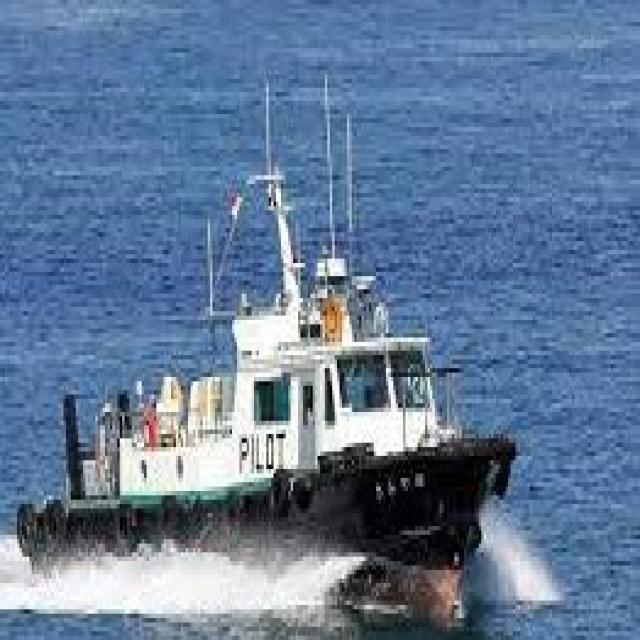houseboat: (10, 147, 512, 620)
